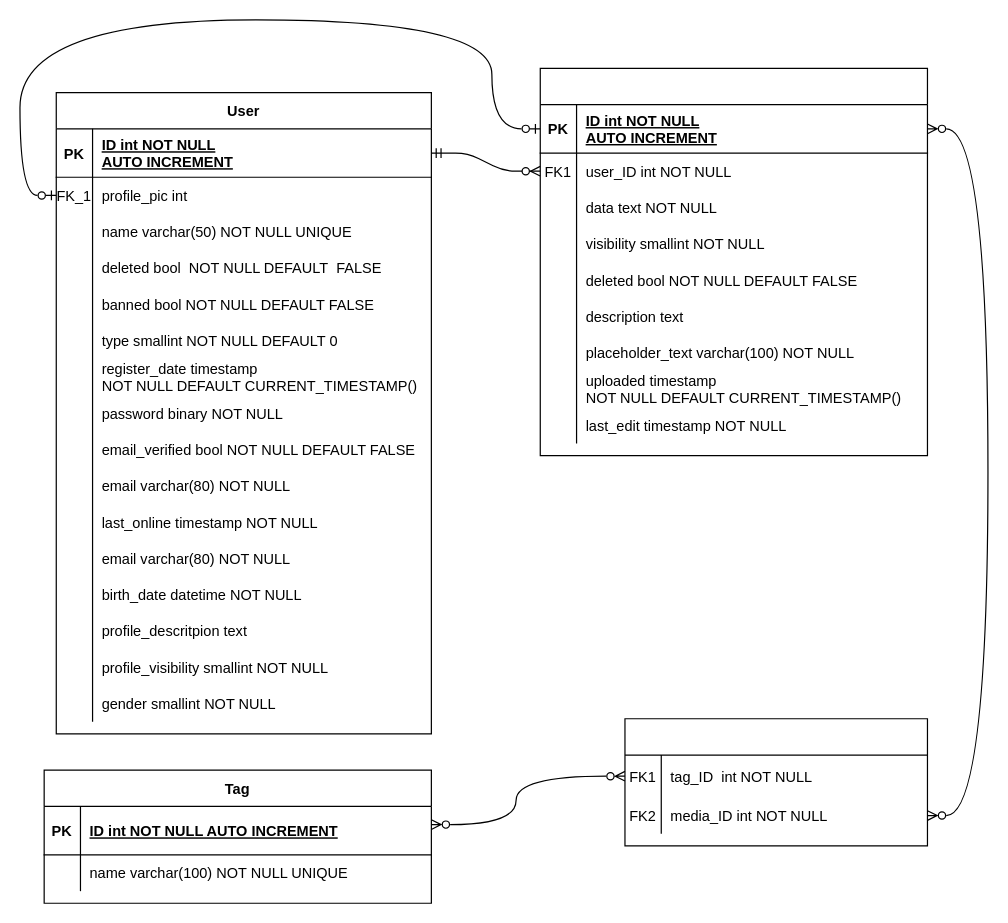
Some shapes in this 1008 by 923 pixel diagram are drawn without their labels. Here are the shapes that lost their labels. From the top down, the box of each, then its label:
(539, 67, 927, 456): Media
(624, 718, 927, 846): Media_Taglist
